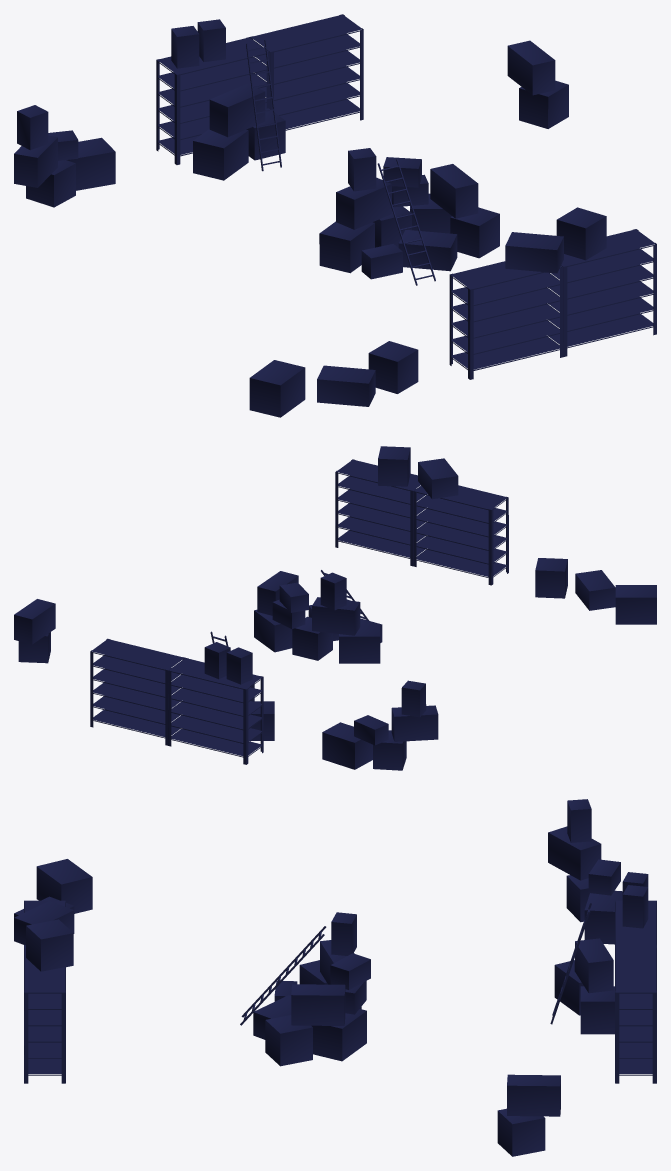
The model's file is Locked Section.fbx.
The picture shows the model from 3 angles, top to bottom: view 1: azimuth 30°, elevation 25°; view 2: azimuth 150°, elevation 25°; view 3: azimuth 270°, elevation 25°; orthographic projection. The views are drawn at different scales.
Parts seen in each view (by area): view 1: 430x210x270_1.004; view 2: 430x210x270_1.004; view 3: 430x210x270_1.004.
Boxes of the visible parts, x1=… form: 430x210x270_1.004: x1=14, y1=14, x2=656, y2=417; 430x210x270_1.004: x1=14, y1=446, x2=656, y2=770; 430x210x270_1.004: x1=14, y1=799, x2=656, y2=1156.
Size of the model in its own units: 1643 by 356 by 1681.
